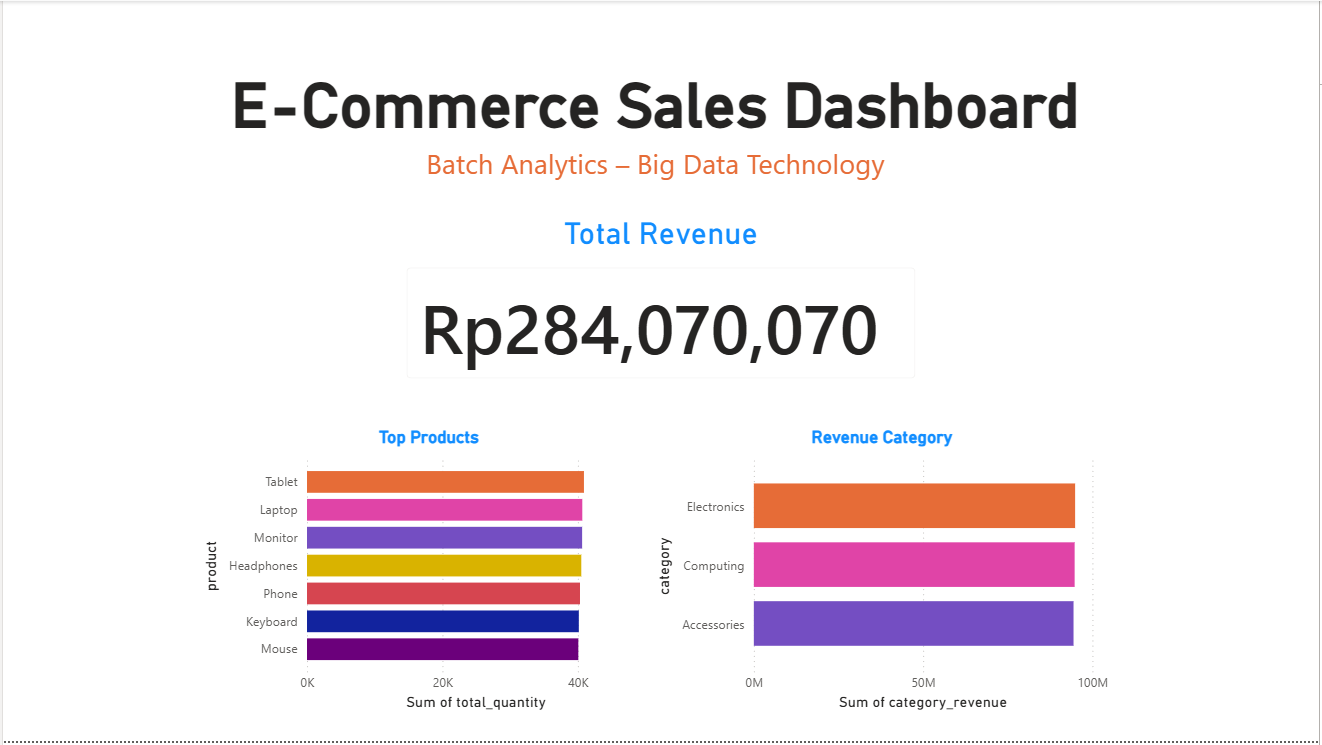

This screenshot's page, from the dashboard's own definition file:
{"tool":"powerbi","page":{"name":"Page 1","canvas":[1280,720],"ordinal":0},"visuals":[{"type":"cardVisual","title":"Total Revenue","fields":{"Data":["Sum(part-00000-c966ddb0-50ec-49c6-9a16-afa5581b1cfd-c000.total_revenue)"]},"box":[375.4,208.1,529.1,176],"z":0},{"type":"clusteredBarChart","title":"Top Products","fields":{"Category":["part-00000-f807bda5-b236-4899-87bd-0f299f0913d0-c000.product"],"Y":["Sum(part-00000-f807bda5-b236-4899-87bd-0f299f0913d0-c000.total_quantity)"]},"box":[188.7,414.3,451.3,280.1],"z":1000},{"type":"clusteredBarChart","title":"Revenue Category","fields":{"Category":["part-00000-d51f4960-6d0f-43a2-8d85-567ffd3a23b0-c000.category"],"Y":["Sum(part-00000-d51f4960-6d0f-43a2-8d85-567ffd3a23b0-c000.category_revenue)"]},"box":[629.3,414.3,451.3,280.1],"z":2000},{"type":"textbox","title":"E-Commerce Sales Dashboard","box":[188.7,66.1,891.9,108.9],"z":3000}]}

Visuals, with their boxes in screenshot pixels (x1, y1, x2, y2), scaled from the page's 1280x720 canvas onto the 1322x745 screenshot:
"Total Revenue" cardVisual: (388, 215, 934, 397)
"Top Products" clusteredBarChart: (195, 429, 661, 719)
"Revenue Category" clusteredBarChart: (650, 429, 1116, 719)
"E-Commerce Sales Dashboard" textbox: (195, 68, 1116, 181)
